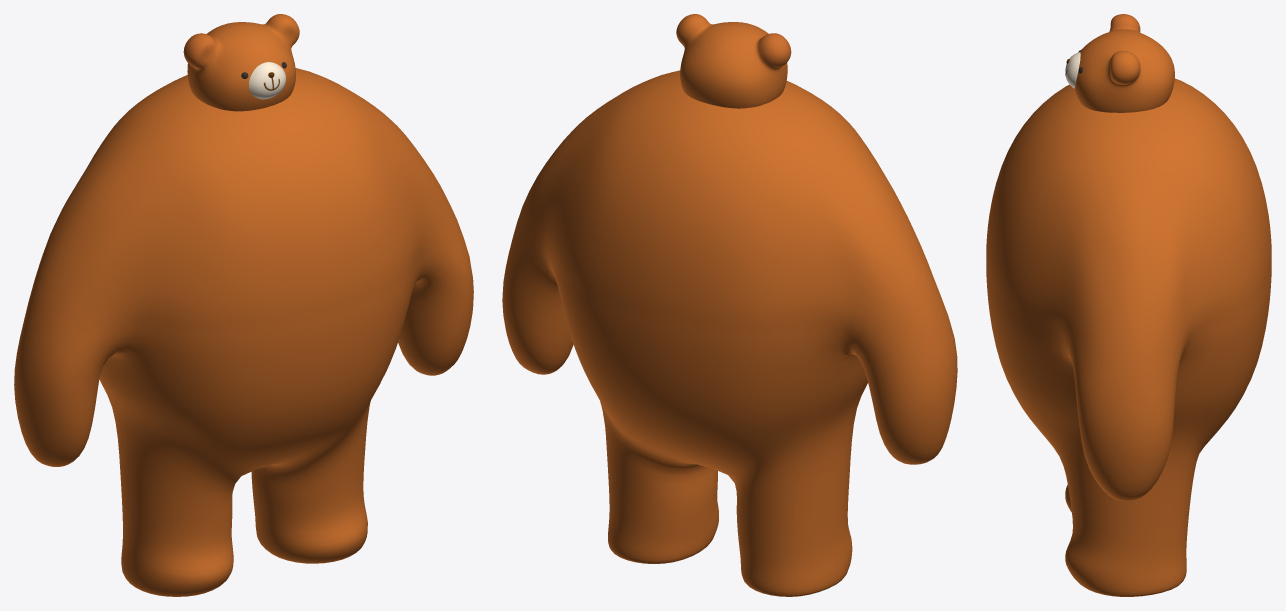
3 renders of one model, left to right at view 1: azimuth 30°, elevation 25°; view 2: azimuth 150°, elevation 25°; view 3: azimuth 270°, elevation 25°, orthographic. The views are drawn at different scales.
Parts seen in each view (by area): view 1: big_props_2; view 2: big_props_2; view 3: big_props_2.
Boxes of the visible parts, x1,y1,x2,y2 form: big_props_2: [14, 14, 473, 596]; big_props_2: [502, 14, 957, 596]; big_props_2: [986, 14, 1271, 596].
Bounding box in the file's own units: 9.02 × 10.45 × 5.29.
Materials: 1 (1 with a texture image).
